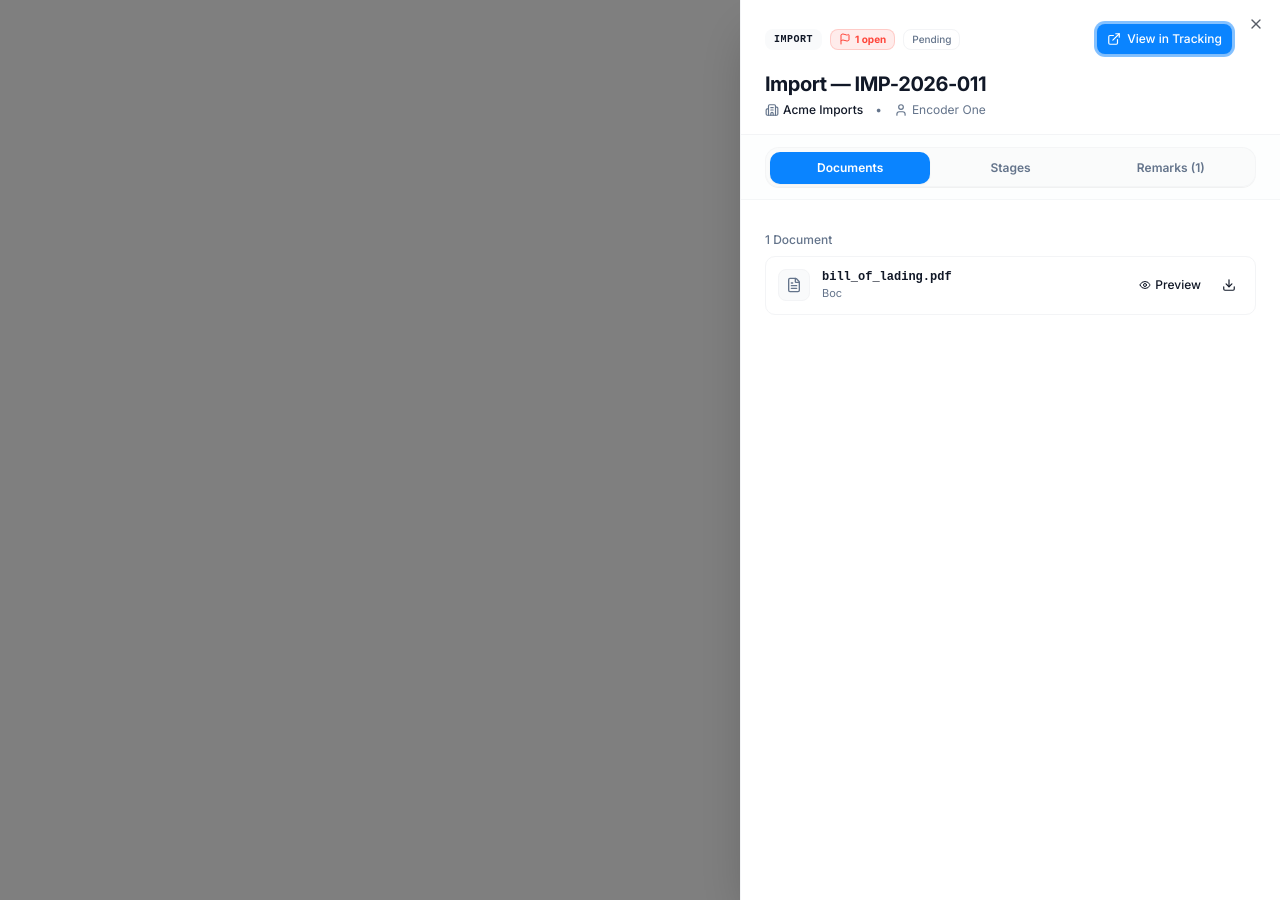
Scenario: TransactionDetailDrawer › disables the add-remark submit until a message is entered
The width and height of the screenshot is (1280, 900).
Press the mouse on the tab "Remarks (1)" at (1171, 168), box [1091,152,1251,184]
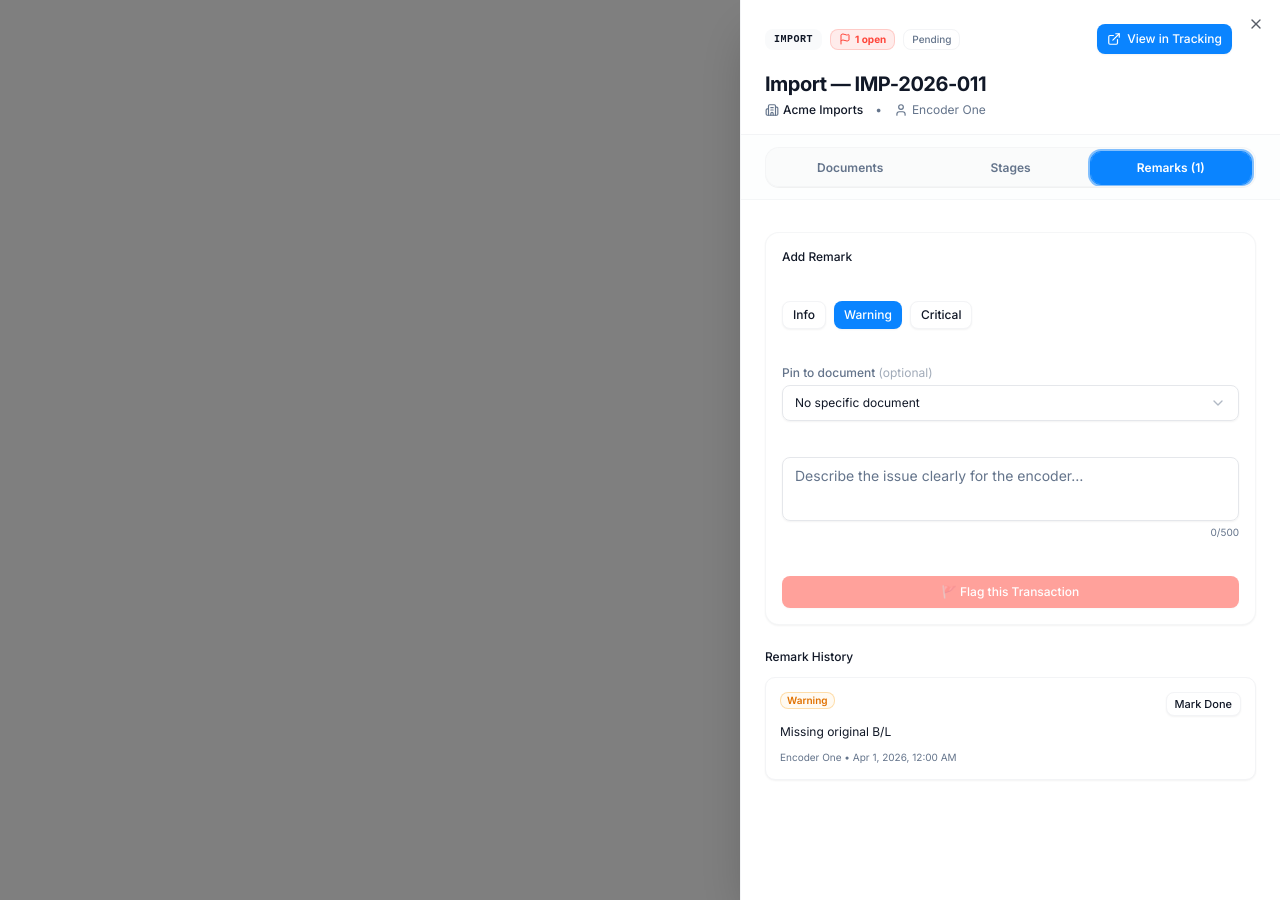
Check: the button "🚩 Flag this Transaction" is disabled, box [782,576,1239,608]
Type "Missing original B/L" into the text box with placeholder "Describe the issue clearly for the encoder…" at (1010, 489), box [782,457,1239,521]
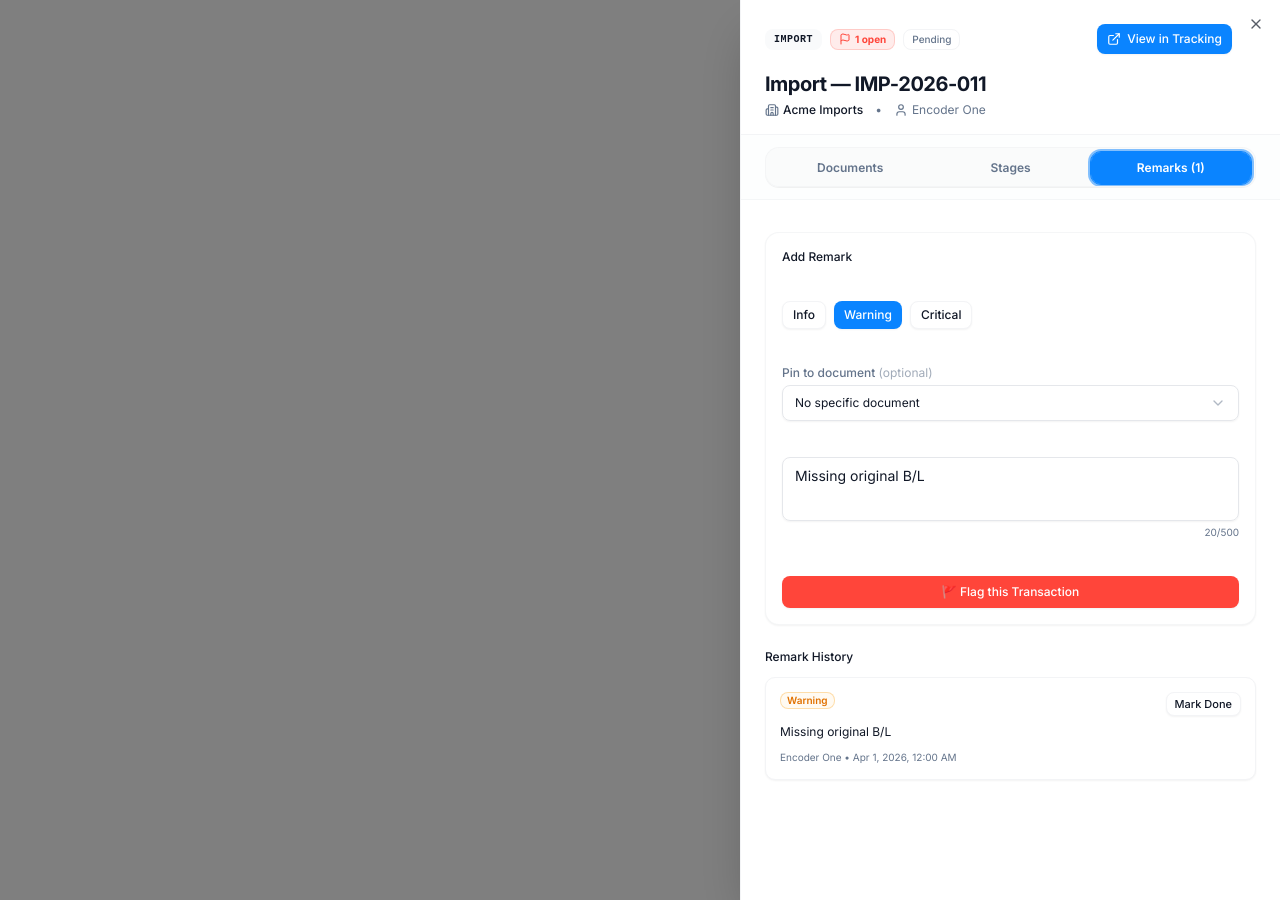
Check: the button "🚩 Flag this Transaction" is enabled, box [782,576,1239,608]
